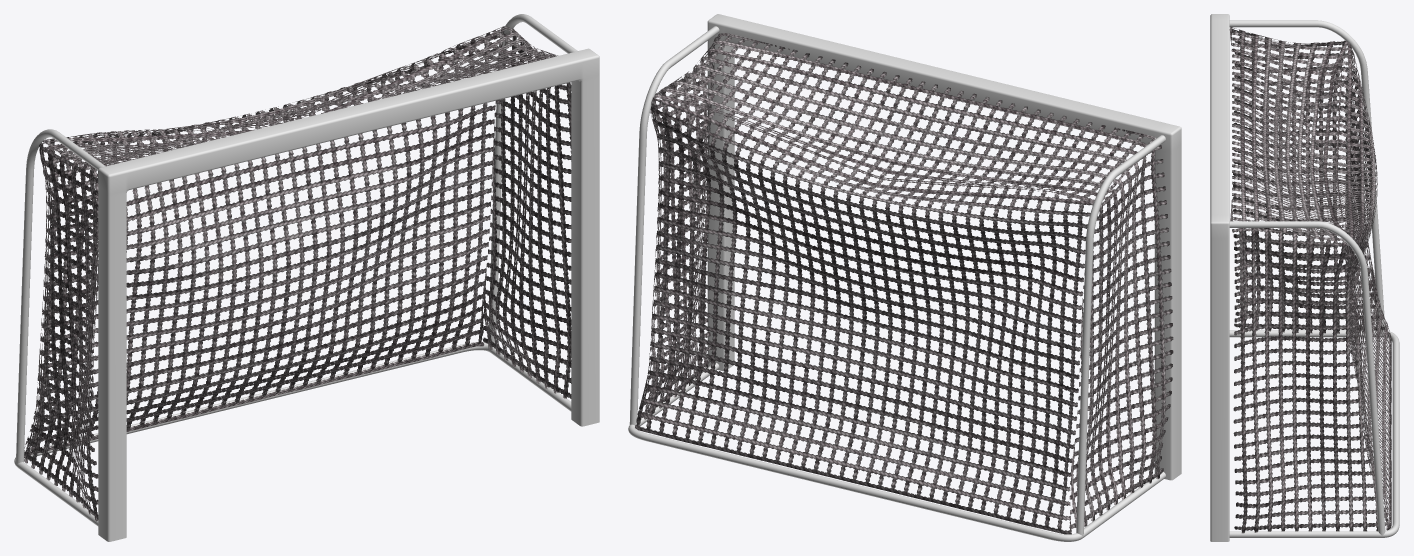
The model's file is Post (1).fbx.
3 views of the same model, side by side, from view 1: azimuth 30°, elevation 25°; view 2: azimuth 150°, elevation 25°; view 3: azimuth 270°, elevation 25° (orthographic). The views are drawn at different scales.
Parts seen in each view (by area): view 1: Net.001, Pole, pole.001; view 2: Net.001, Pole, pole.001; view 3: Net.001, Pole, pole.001.
Part boxes in pixels (<box>): Net.001: <box>24,26,571,521</box>; Pole: <box>98,48,599,541</box>; pole.001: <box>14,14,577,526</box>; Net.001: <box>635,33,1173,534</box>; Pole: <box>707,14,1181,480</box>; pole.001: <box>628,26,1165,541</box>; Net.001: <box>1229,27,1391,533</box>; Pole: <box>1210,14,1229,541</box>; pole.001: <box>1229,20,1399,537</box>.
Size of the model in its own units: 284 by 200 by 107.
